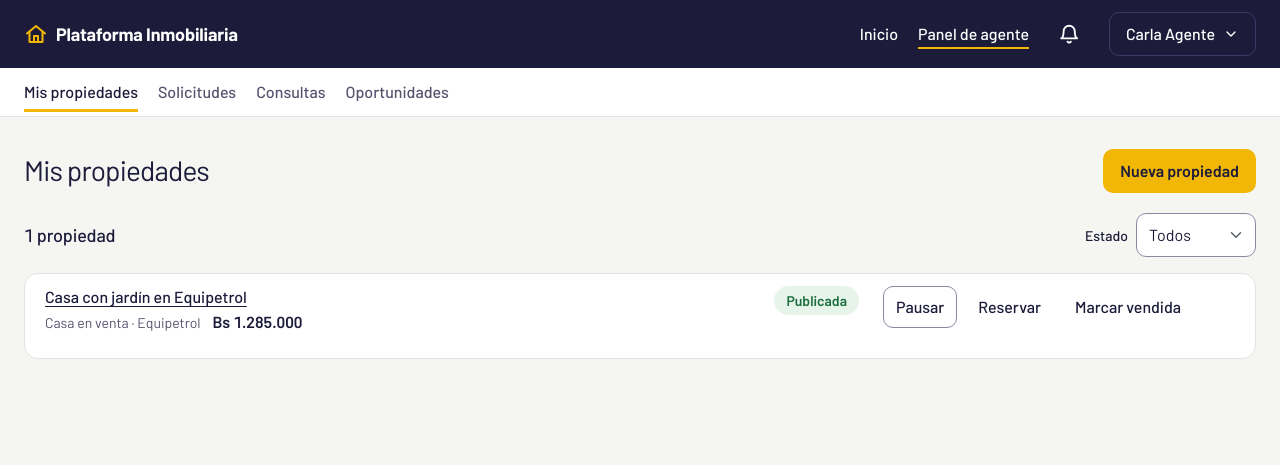
Test case: AgentPropertiesPage › asks for confirmation before marking as sold and allows backing out
The image size is (1280, 465).
Click the button "Marcar vendida" at (1128, 307), box x1=1062 y1=286 x2=1194 y2=328
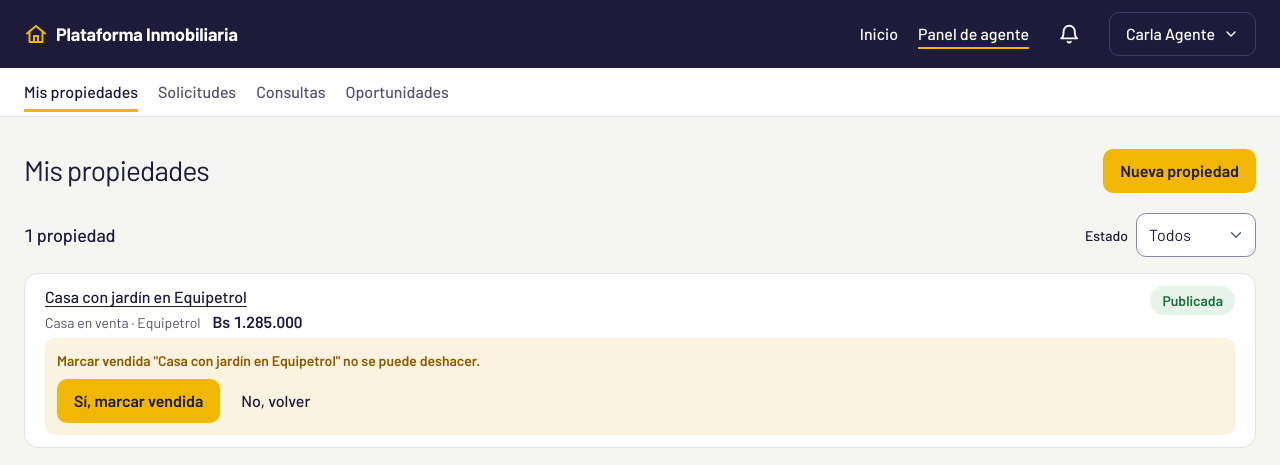
Expected: the text "no se puede deshacer" is shown, x1=336 y1=352 x2=480 y2=369
Click the button "No, volver" at (276, 401), box x1=228 y1=380 x2=323 y2=422
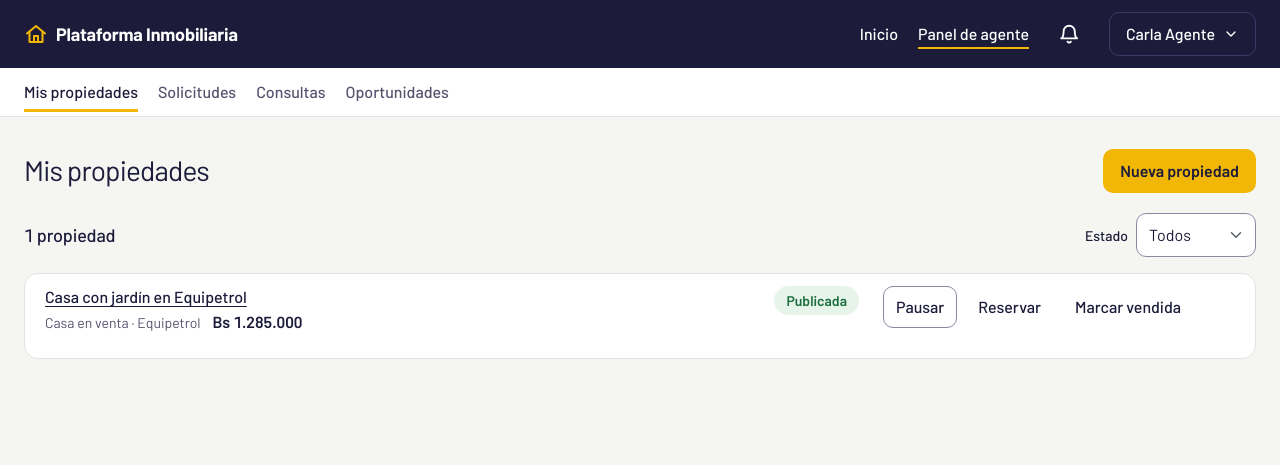
Expected: the text "no se puede deshacer" is gone
